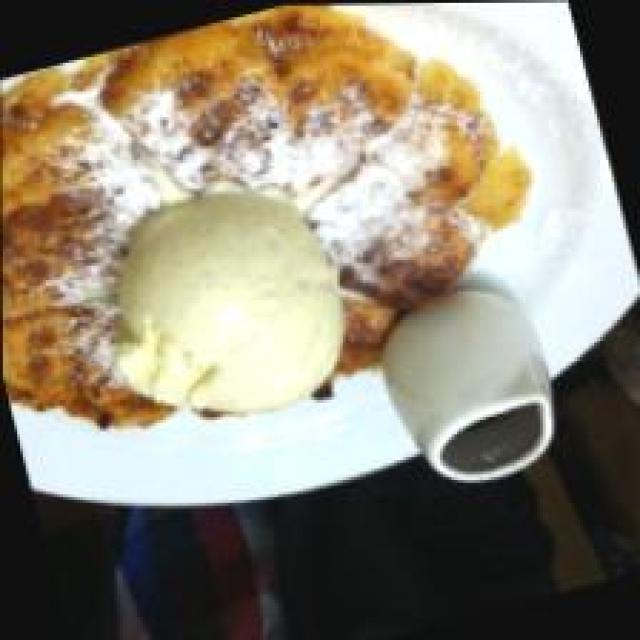Waffles: (0, 2, 560, 484)
